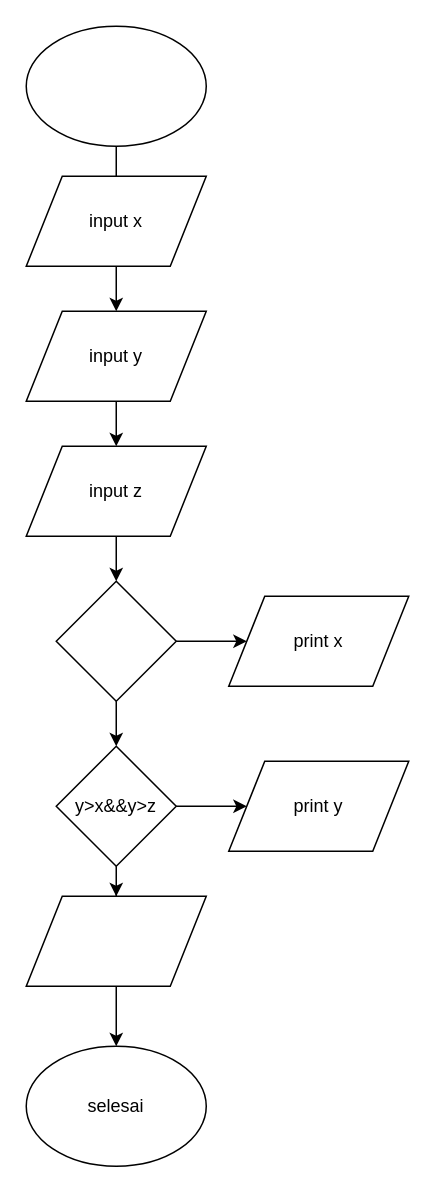
The diagram is 435 pixels wide and 1193 high, and some of its shapes have lost their labels. Here are the shapes that lost their labels. From the top down, the centre of each, then its label:
point (115, 85): MULAI
point (115, 640): x>y&&x>z?
point (115, 940): print z
